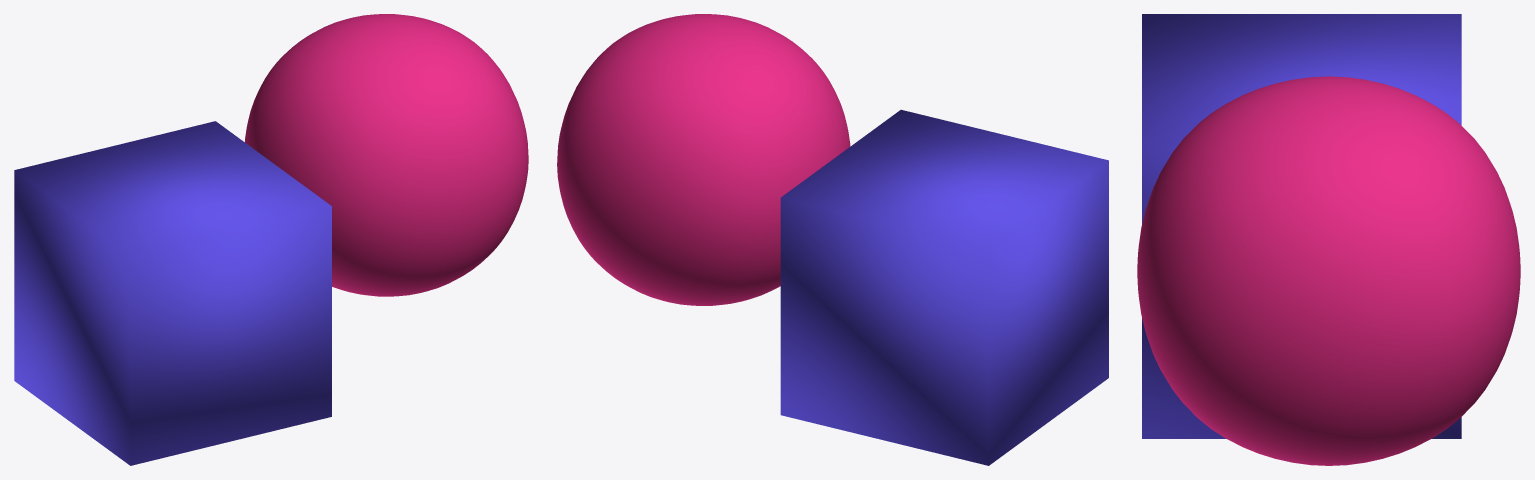
The picture shows the model from 3 angles, left to right: view 1: azimuth 30°, elevation 25°; view 2: azimuth 150°, elevation 25°; view 3: azimuth 270°, elevation 25°; orthographic projection. The views are drawn at different scales.
Parts seen in each view (by area): view 1: Cube, Cube.001; view 2: Cube, Cube.001; view 3: Cube.001, Cube.
Boxes of the visible parts, left/top/right/bottom form: Cube: left=14, top=121, right=331, bottom=465; Cube.001: left=245, top=14, right=528, bottom=296; Cube: left=780, top=109, right=1108, bottom=465; Cube.001: left=557, top=14, right=850, bottom=305; Cube.001: left=1137, top=76, right=1520, bottom=465; Cube: left=1142, top=14, right=1461, bottom=438.
Size of the model in its own units: 4.42 by 2.93 by 2.4.
